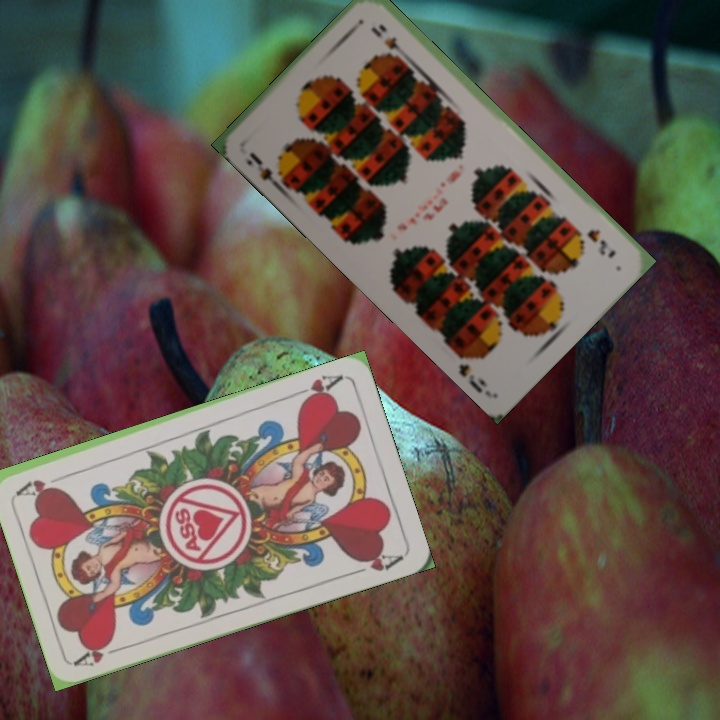HA: (289, 370, 346, 407), (71, 635, 129, 669)
S9: (245, 147, 289, 193), (582, 225, 619, 261)
